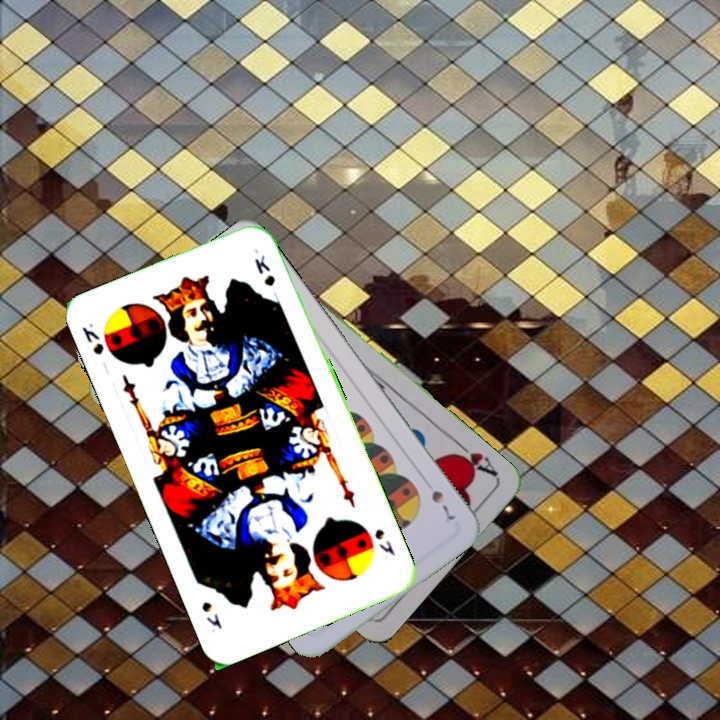HA: (448, 435, 500, 479)
S7: (427, 486, 458, 523)
SK: (78, 318, 107, 358), (370, 524, 398, 559)
